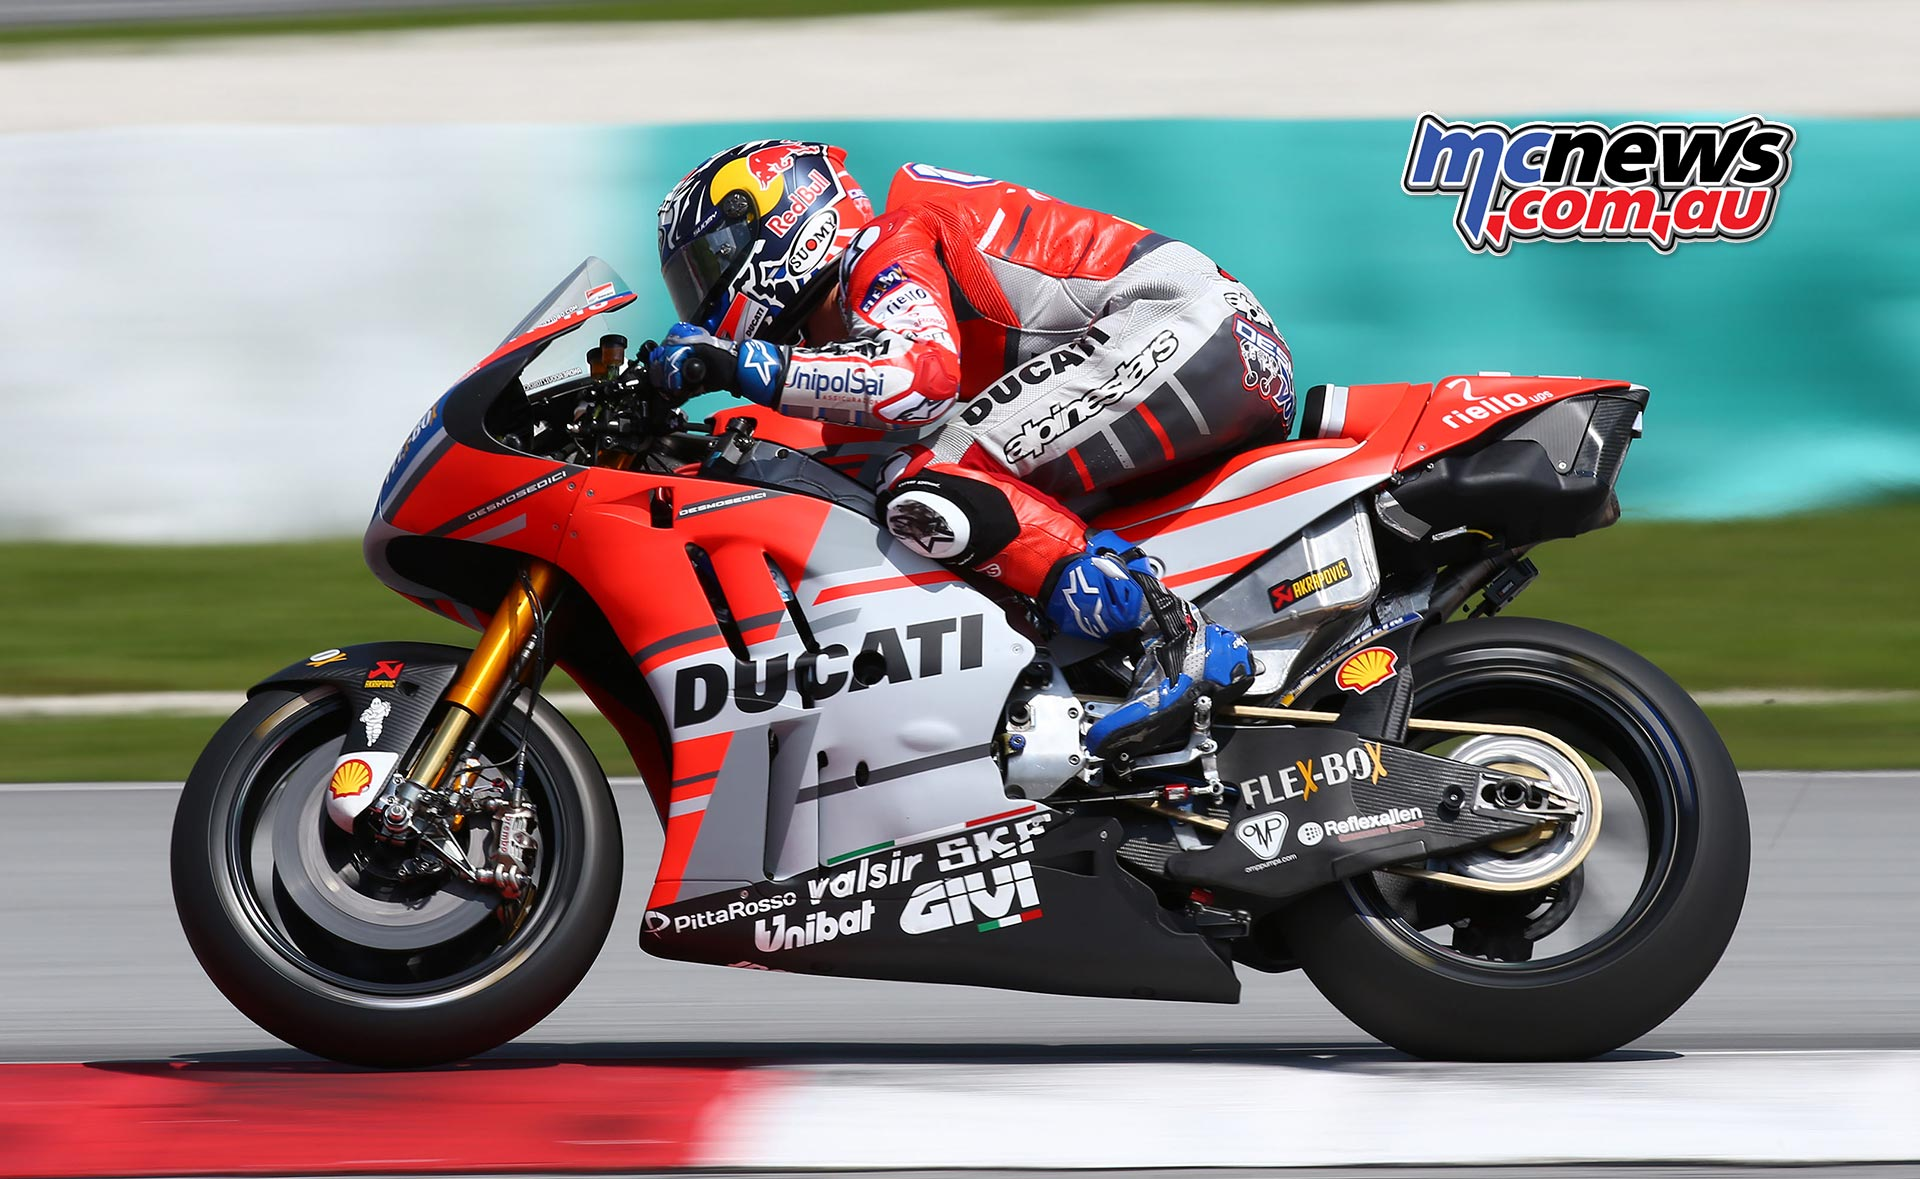helmet: (629, 110, 874, 285)
